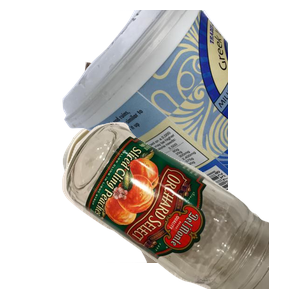cardboard: (75, 59, 237, 176)
glass: (60, 120, 300, 300)
plastic: (60, 10, 300, 190)
trash: (60, 120, 300, 300)
